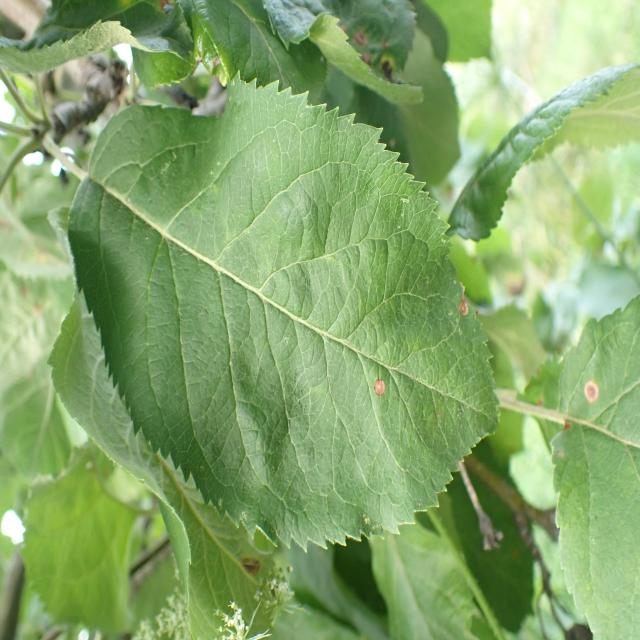Black Rot: (571, 367, 618, 416), (453, 275, 474, 333), (373, 367, 394, 408)
